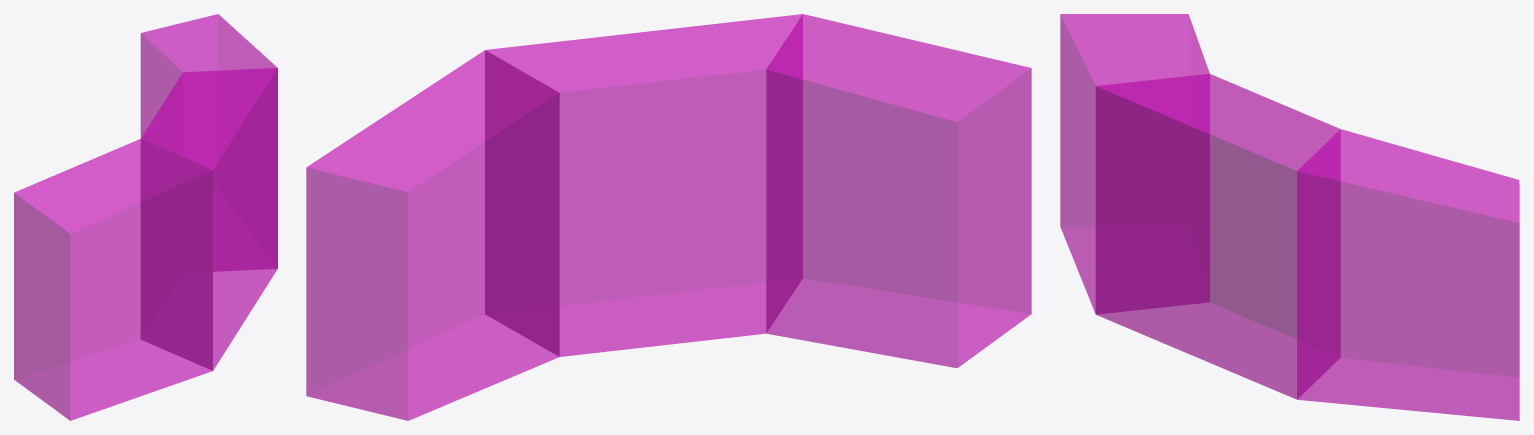
Rendered from SM_Bld_Wall_L_Curve_Half_Damaged_01_Collision.fbx.
The picture shows the model from 3 angles, left to right: view 1: azimuth 30°, elevation 25°; view 2: azimuth 150°, elevation 25°; view 3: azimuth 270°, elevation 25°; orthographic projection. The views are drawn at different scales.
Visible parts, largest first — view 1: SM_Bld_Wall_L_Curve_Half_Damaged_01_Collision; view 2: SM_Bld_Wall_L_Curve_Half_Damaged_01_Collision; view 3: SM_Bld_Wall_L_Curve_Half_Damaged_01_Collision.
Part boxes in pixels (bbox=[...]): SM_Bld_Wall_L_Curve_Half_Damaged_01_Collision: bbox=[14, 14, 277, 420]; SM_Bld_Wall_L_Curve_Half_Damaged_01_Collision: bbox=[306, 14, 1031, 420]; SM_Bld_Wall_L_Curve_Half_Damaged_01_Collision: bbox=[1060, 14, 1519, 420].
Bounding box in the file's own units: 281 × 154 × 281.
